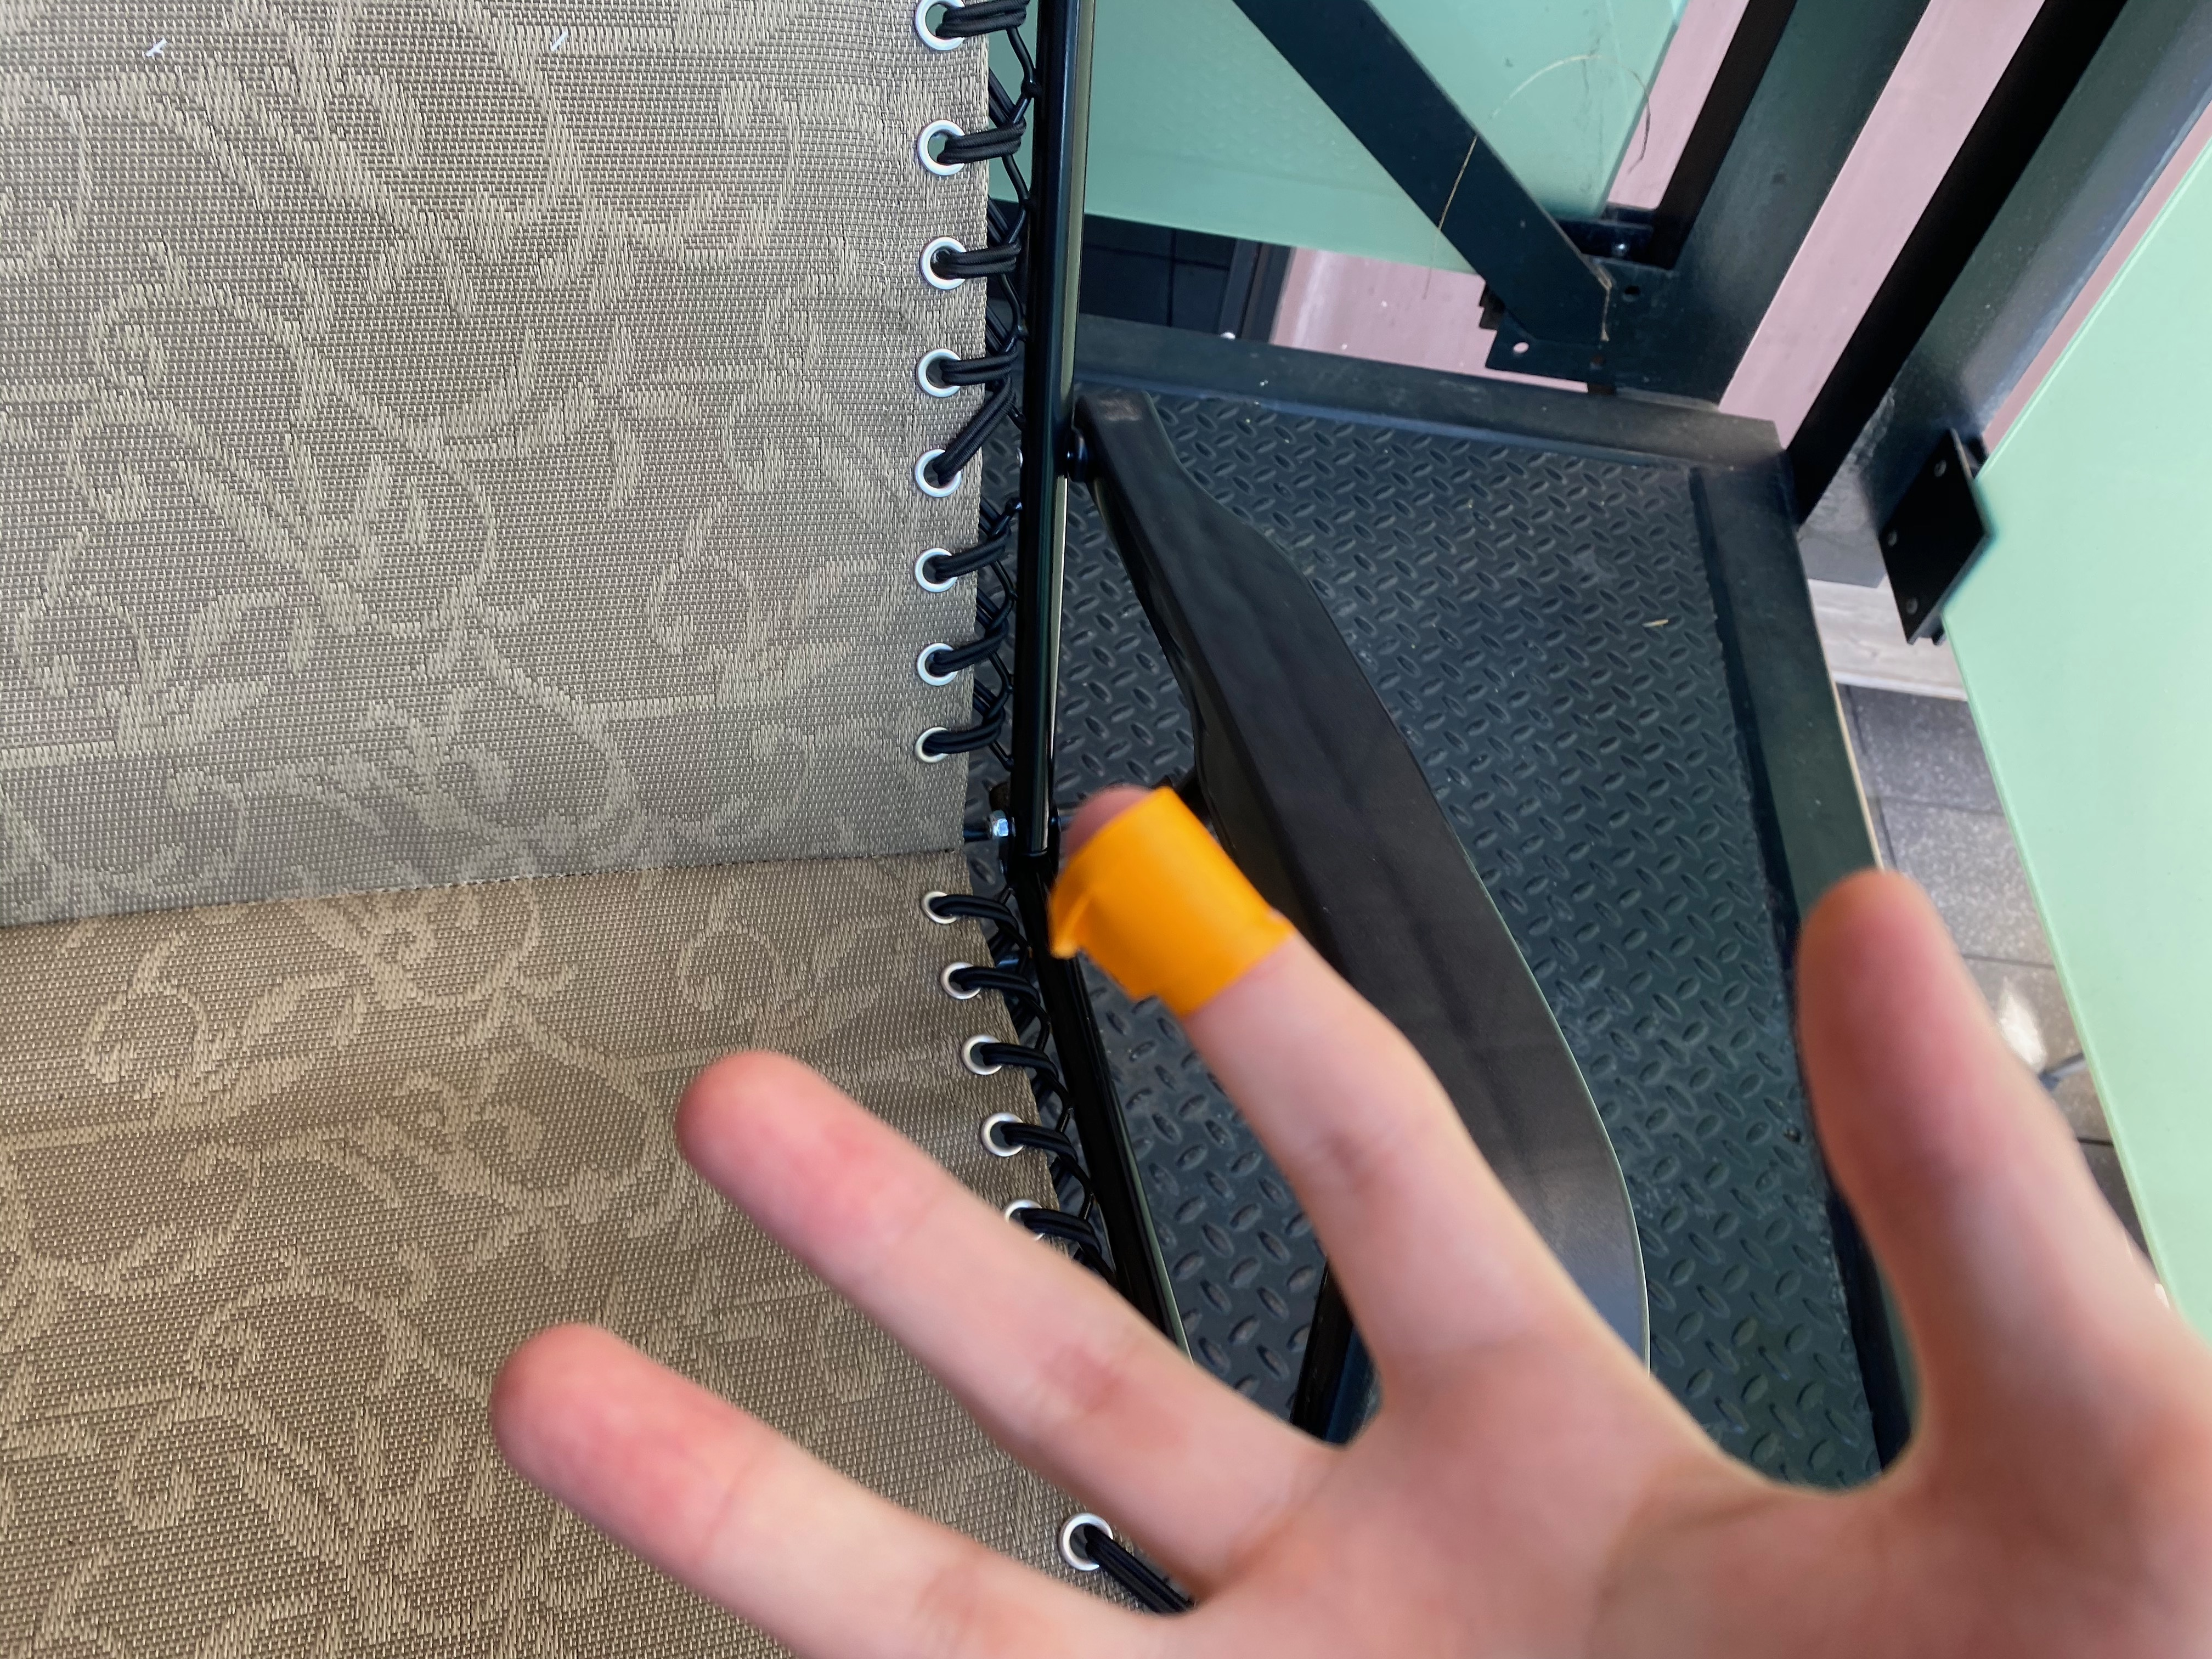fingertip: (1022, 779, 1285, 1023)
